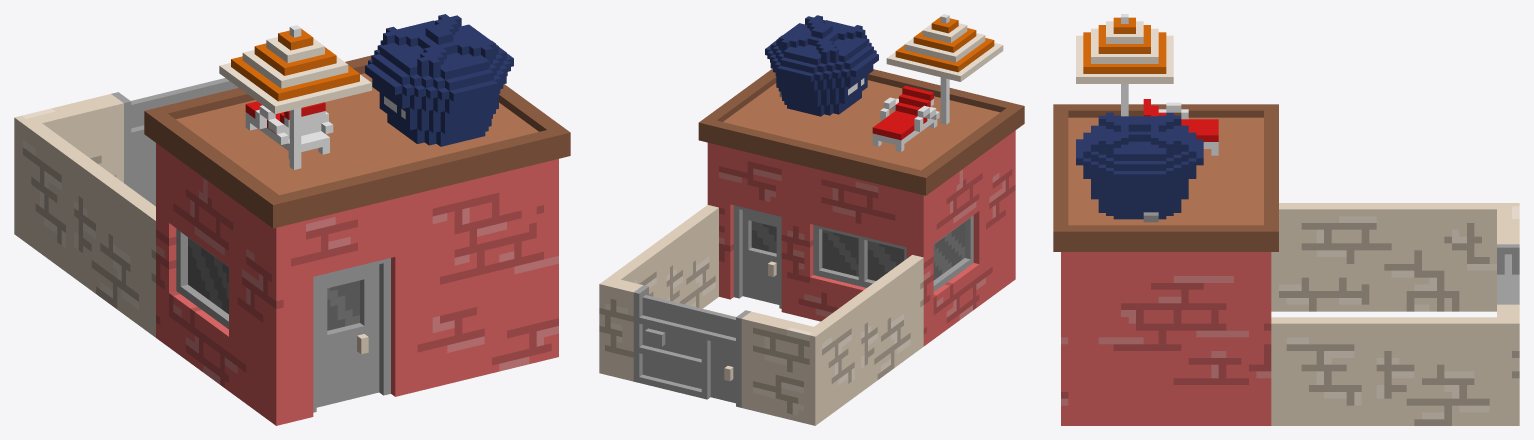
The model's file is variaçõesdecorcasa-6.obj.
3 renders of one model, left to right at view 1: azimuth 30°, elevation 25°; view 2: azimuth 150°, elevation 25°; view 3: azimuth 270°, elevation 25°, orthographic. The views are drawn at different scales.
Size of the model in its own units: 4 by 4.6 by 6.2.
Materials: 1 (1 with a texture image).
